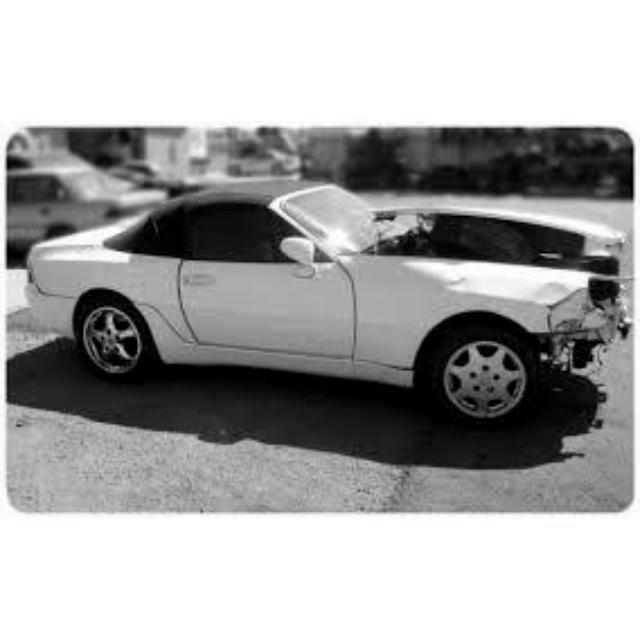Headlight-damage: (579, 268, 633, 342)
fender-dent: (463, 268, 580, 335)
